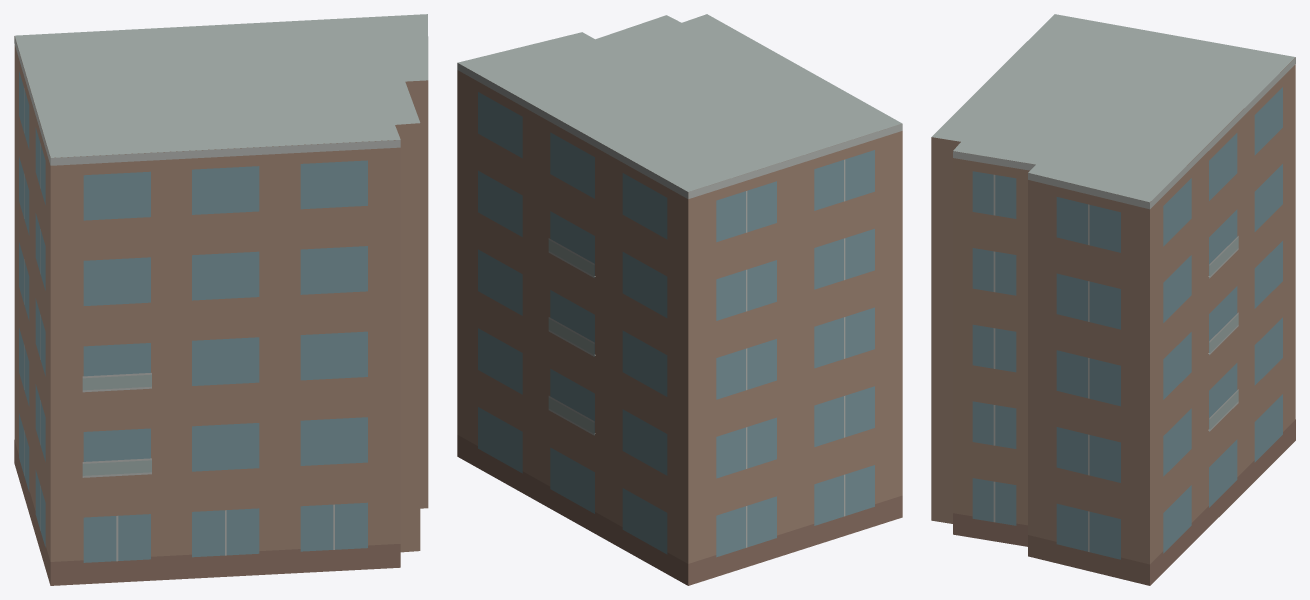
File: survey-upis-32511036.glb
3 views of the same model, side by side, from view 1: azimuth 30°, elevation 25°; view 2: azimuth 150°, elevation 25°; view 3: azimuth 270°, elevation 25° (orthographic). The views are drawn at different scales.
Visible parts, largest first — view 1: survey-upis-32511036.tmp; view 2: survey-upis-32511036.tmp; view 3: survey-upis-32511036.tmp.
Boxes of the visible parts, bbox=[...] form: survey-upis-32511036.tmp: bbox=[14, 14, 428, 585]; survey-upis-32511036.tmp: bbox=[457, 14, 902, 585]; survey-upis-32511036.tmp: bbox=[931, 14, 1295, 585].
Bounding box in the file's own units: 14.01 × 13.3 × 11.47.
